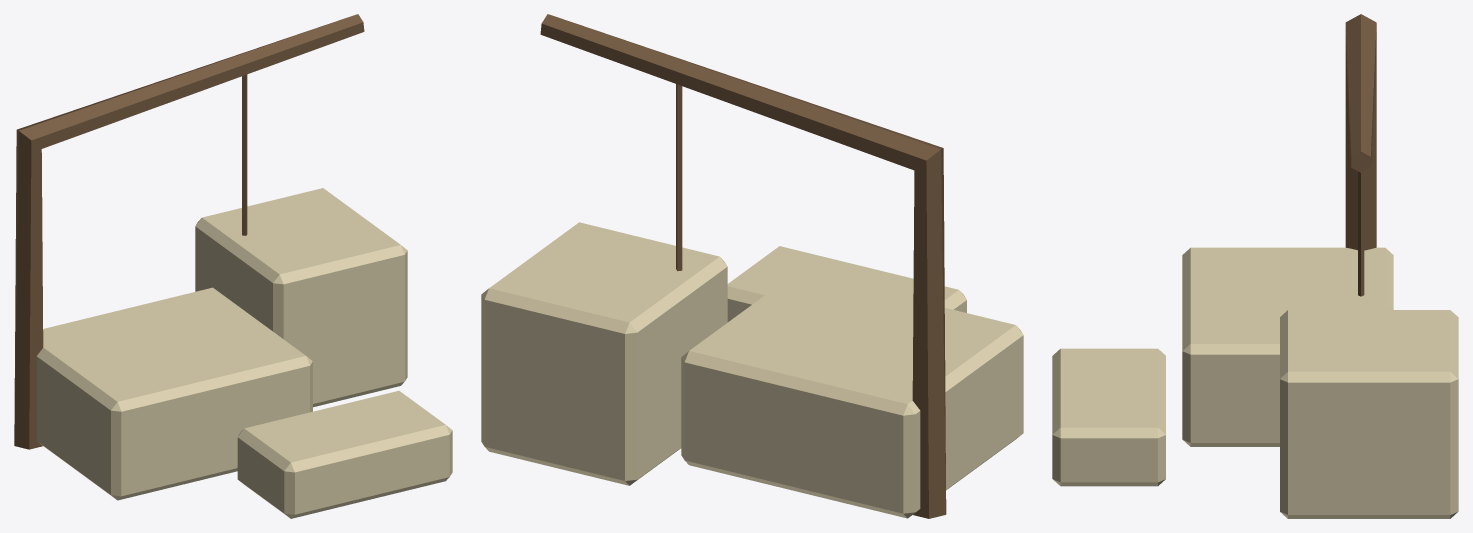
The model's file is quarry.glb.
3 renders of one model, left to right at view 1: azimuth 30°, elevation 25°; view 2: azimuth 150°, elevation 25°; view 3: azimuth 270°, elevation 25°, orthographic. The views are drawn at different scales.
Visible parts, largest first — view 1: Cube, Cube.001, Cube.002, Tapered form, Tapered form.001; view 2: Cube, Cube.001, Tapered form, Cube.002, Tapered form.001; view 3: Cube.001, Cube, Cube.002, Tapered form, Tapered form.001.
Boxes of the visible parts, x1,y1,x2,y2 form: Cube: [36, 287, 312, 500]; Cube.001: [195, 188, 407, 407]; Cube.002: [237, 390, 452, 518]; Tapered form: [14, 14, 364, 449]; Tapered form.001: [242, 74, 247, 235]; Cube: [681, 271, 1023, 518]; Cube.001: [481, 222, 727, 485]; Tapered form: [540, 14, 946, 518]; Cube.002: [727, 246, 966, 322]; Tapered form.001: [676, 84, 682, 271]; Cube.001: [1280, 310, 1458, 518]; Cube: [1182, 247, 1393, 446]; Cube.002: [1052, 348, 1165, 486]; Tapered form: [1345, 14, 1376, 250]; Tapered form.001: [1358, 171, 1364, 296].
Size of the model in its own units: 0.532 by 0.4939 by 0.5.
